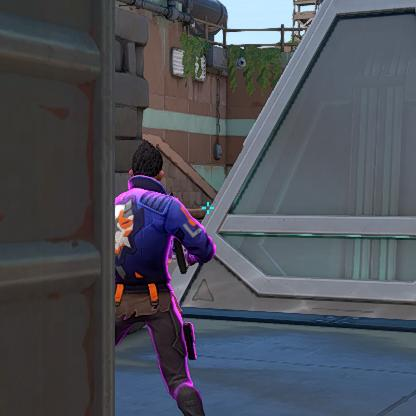enemyBody: (119, 199, 163, 288)
enemyHead: (139, 154, 156, 180)
